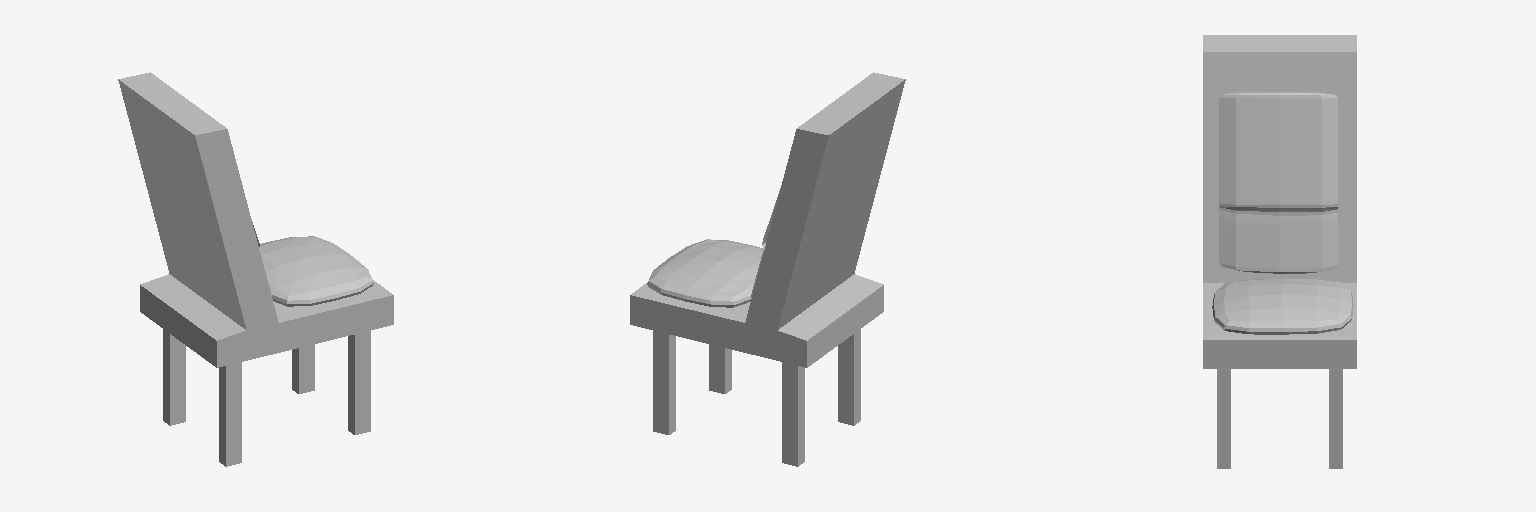
The model's file is cadeira.obj.
3 views of the same model, side by side, from view 1: azimuth 30°, elevation 25°; view 2: azimuth 150°, elevation 25°; view 3: azimuth 270°, elevation 25° (orthographic).
Visible parts, largest first — view 1: Cubo, Cubo.002_Cubo.003; view 2: Cubo, Cubo.002_Cubo.003; view 3: Cubo, Cubo.001_Cubo.002, Cubo.002_Cubo.003.
Part boxes in pixels (x1,y1,x2,y2): Cubo: (118,72,393,466); Cubo.002_Cubo.003: (259,236,373,306); Cubo: (630,72,905,466); Cubo.002_Cubo.003: (647,240,763,307); Cubo: (1203,35,1356,468); Cubo.001_Cubo.002: (1219,92,1337,273); Cubo.002_Cubo.003: (1212,279,1353,334).
Size of the model in its own units: 3.16 by 5.26 by 2.12.